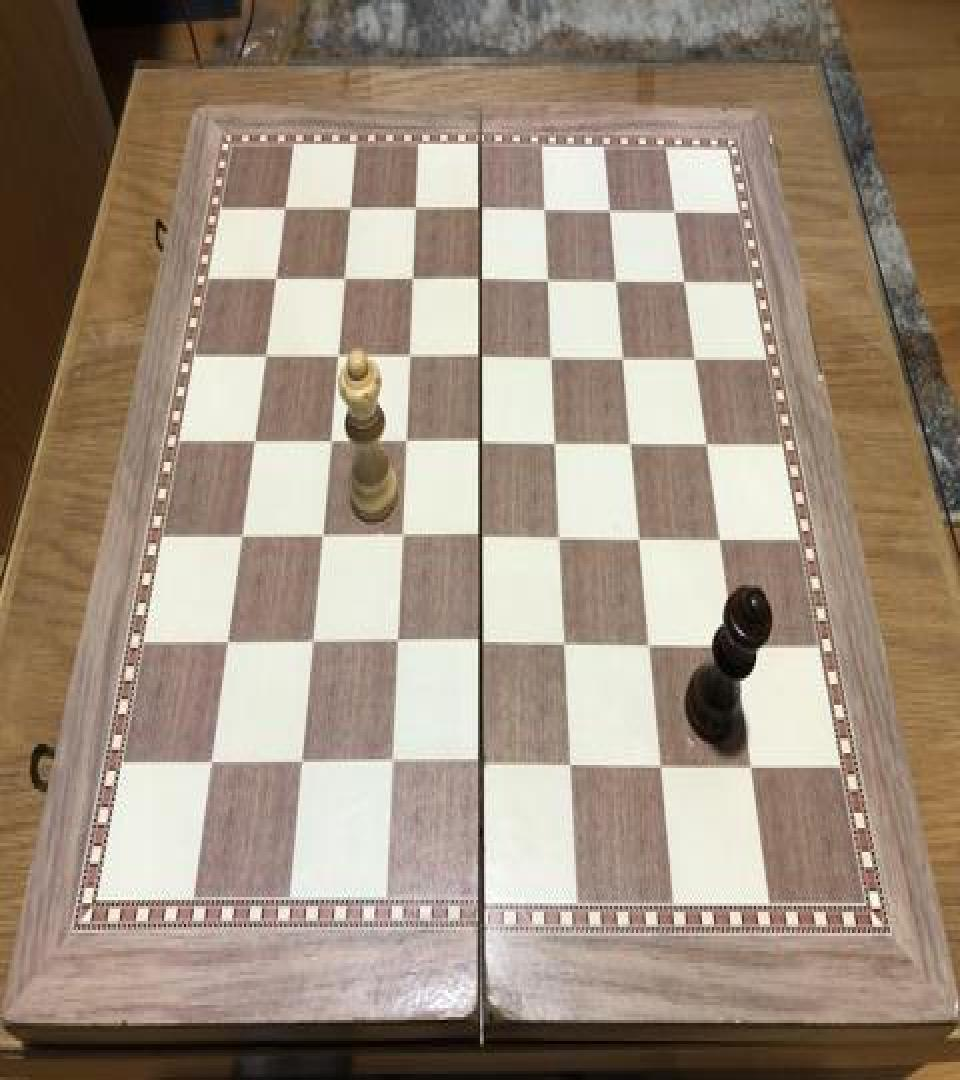xcorner: (663, 190, 687, 226), (598, 190, 622, 226), (534, 190, 558, 226), (469, 192, 493, 228), (405, 192, 429, 228), (340, 192, 364, 228), (276, 194, 300, 230), (537, 261, 561, 297), (469, 261, 493, 297), (401, 261, 425, 297), (334, 262, 358, 298), (266, 262, 290, 298), (683, 336, 707, 372), (611, 338, 635, 374), (540, 338, 564, 374), (469, 338, 493, 374), (397, 338, 421, 374), (326, 339, 350, 375), (256, 339, 280, 375), (695, 422, 719, 458), (619, 422, 643, 458), (544, 423, 568, 459), (468, 423, 492, 459), (393, 423, 417, 459), (318, 423, 342, 459), (244, 423, 268, 459), (708, 518, 732, 554), (628, 518, 652, 554), (548, 518, 572, 554), (468, 518, 492, 554), (389, 518, 413, 554), (310, 518, 334, 554), (231, 518, 255, 554), (722, 624, 746, 660), (637, 624, 661, 660), (552, 624, 576, 660), (468, 624, 492, 660), (384, 624, 408, 660), (299, 624, 323, 660), (216, 624, 240, 660), (739, 744, 763, 780), (648, 744, 672, 780), (558, 744, 582, 780), (468, 744, 492, 780), (378, 744, 402, 780), (288, 744, 312, 780), (199, 744, 223, 780), (673, 260, 697, 295), (605, 260, 629, 295)
